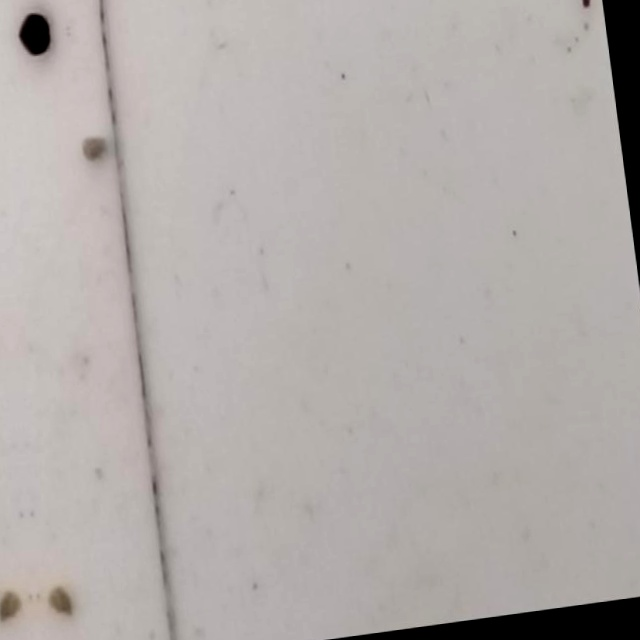varroa: (20, 32, 59, 60)
